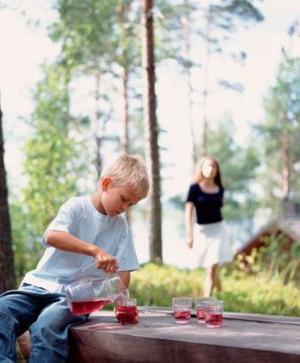person: (2, 154, 149, 363)
